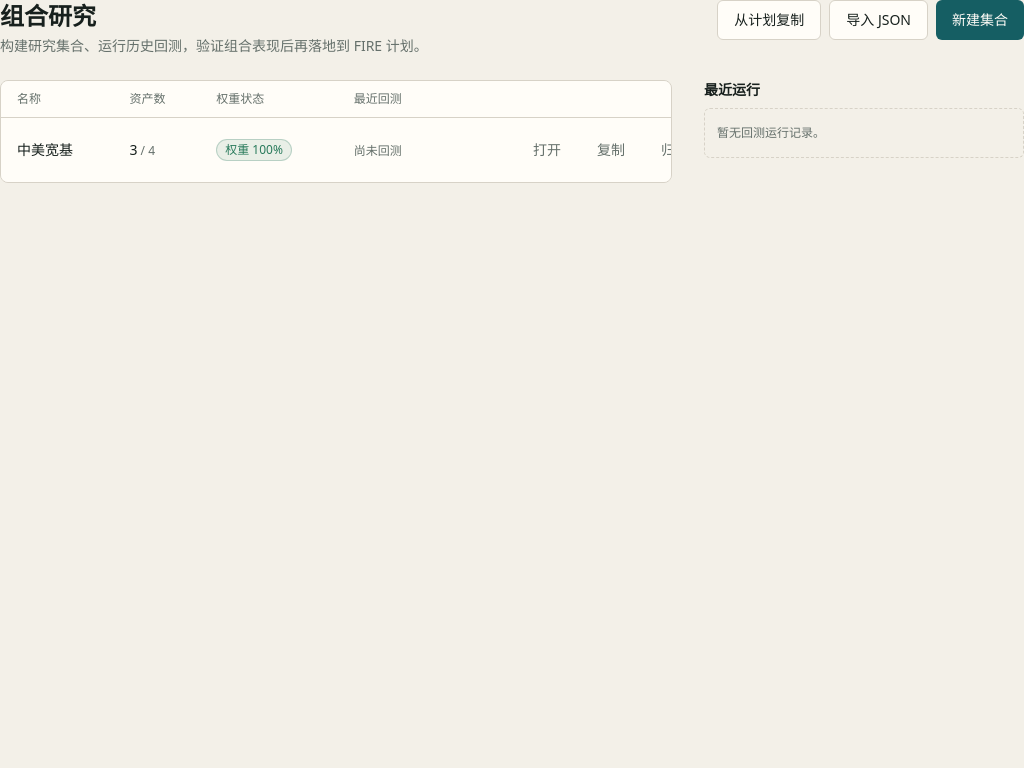
ResearchHomePage › has copy-from-plan entry
The width and height of the screenshot is (1024, 768).
Check: the element with test id "collection-table" is shown, box [0,80,672,183]
Click the button with test id "copy-from-plan-entry" at (769, 20), box [717,0,821,40]
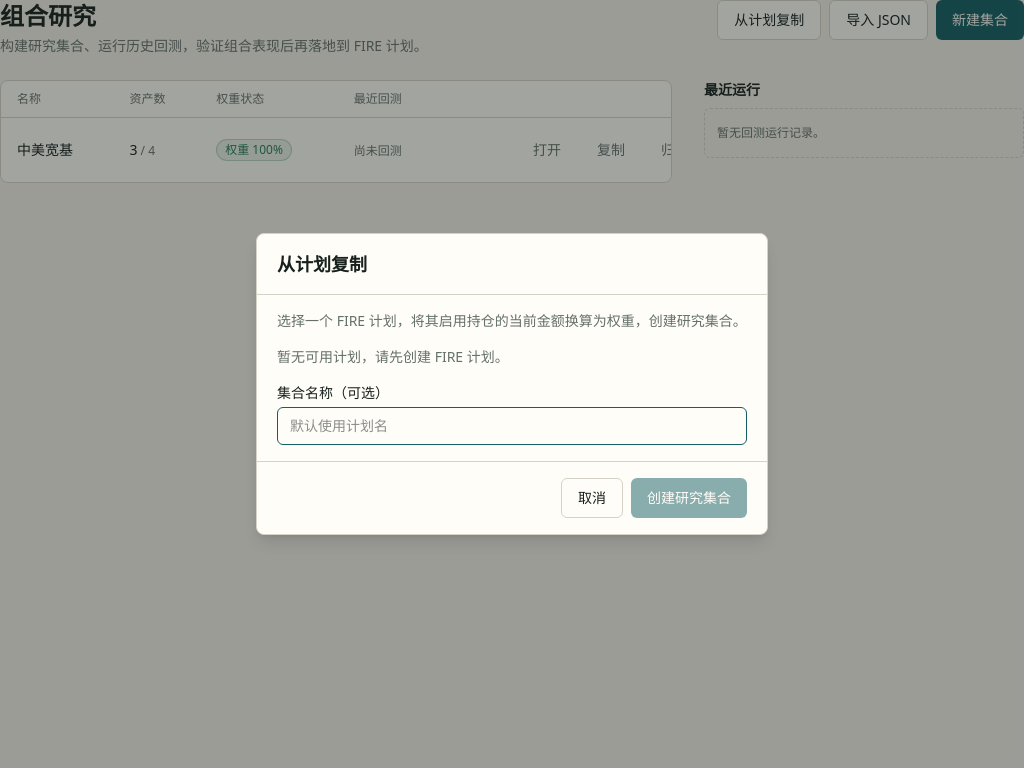
Check: the dialog with test id "dialog" is shown, box [256,233,768,535]
Check: the heading "从计划复制" is shown, box [277,252,367,276]
